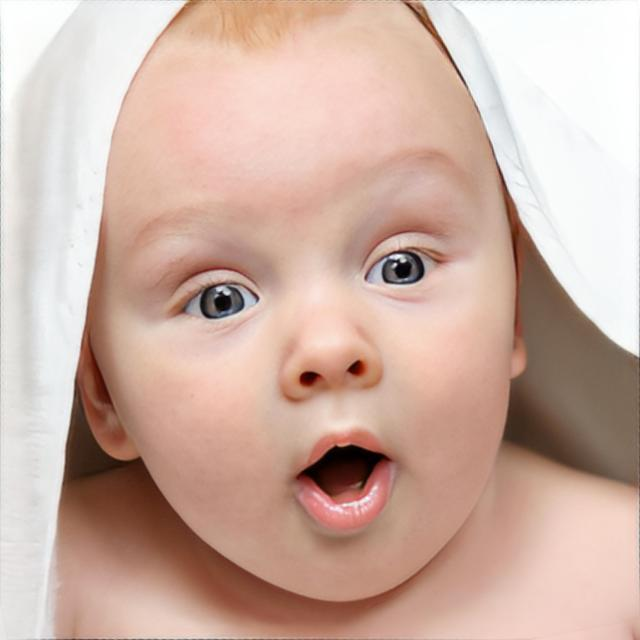surprise: (87, 0, 520, 605)
